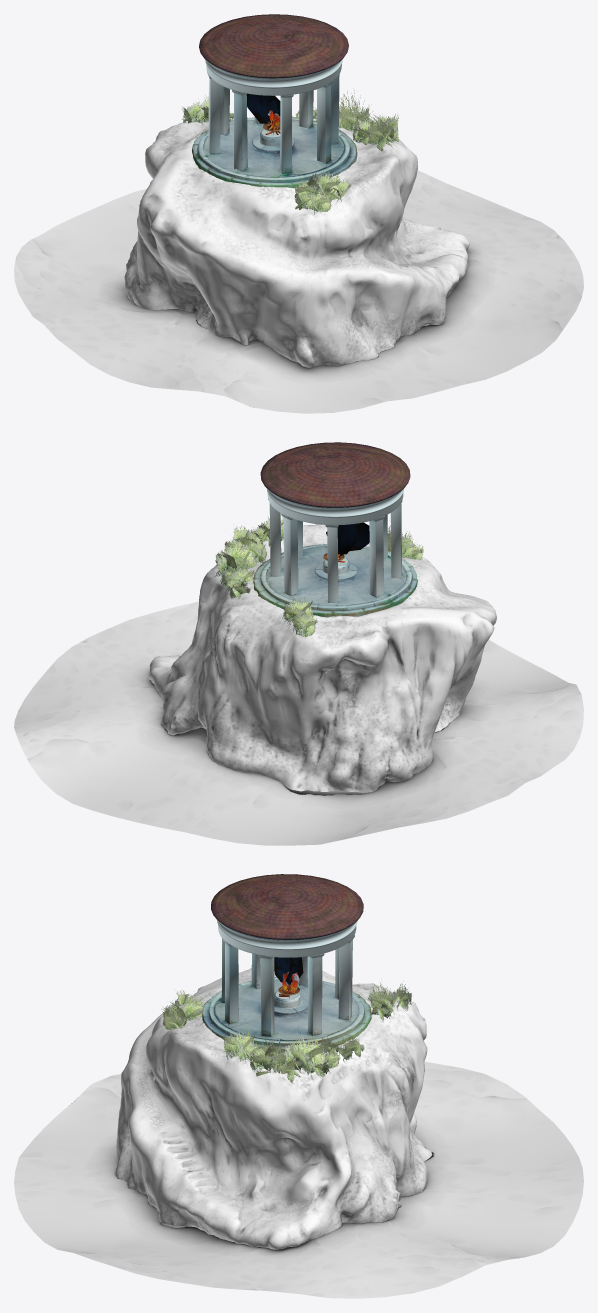
File: kres_chappel_blendswap_10.fbx
The picture shows the model from 3 angles, top to bottom: view 1: azimuth 30°, elevation 25°; view 2: azimuth 150°, elevation 25°; view 3: azimuth 270°, elevation 25°; orthographic projection. The views are drawn at different scales.
Parts seen in each view (by area): view 1: water_lq, island_low_poly, circ_rotonda1, grass.004, smoke; view 2: water_lq, island_low_poly, circ_rotonda1, grass.004, smoke; view 3: water_lq, island_low_poly, circ_rotonda1, grass.004, smoke.
Part boxes in pixels (x1,y1,x2,y2): water_lq: (14,171,583,413); island_low_poly: (124,116,469,367); circ_rotonda1: (192,14,357,188); grass.004: (182,88,398,214); smoke: (246,93,280,124); water_lq: (14,601,583,845); island_low_poly: (148,524,496,792); circ_rotonda1: (253,442,417,617); grass.004: (215,514,423,637); smoke: (326,522,369,556); water_lq: (14,1061,583,1298); island_low_poly: (115,968,432,1249); circ_rotonda1: (202,874,371,1053); grass.004: (161,981,411,1083); smoke: (274,957,303,985).
Size of the model in its own units: 5134 by 2783 by 5134.
9 materials, 9 textured.
